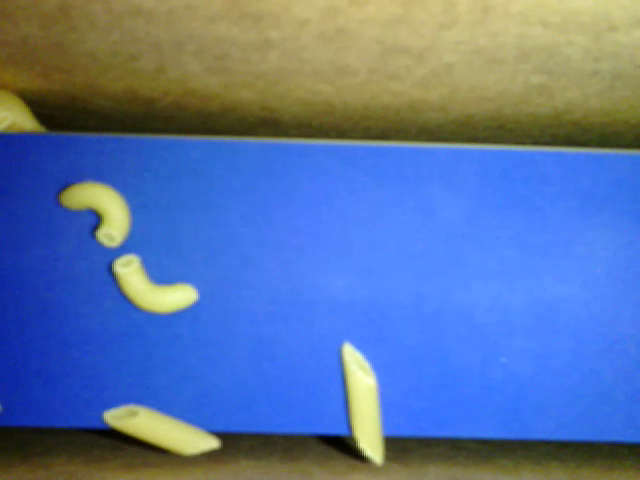elbow: (112, 253, 197, 314), (55, 178, 129, 247), (1, 106, 13, 129)
penne: (102, 402, 220, 455), (337, 339, 384, 468)
shell: (1, 88, 51, 135)
